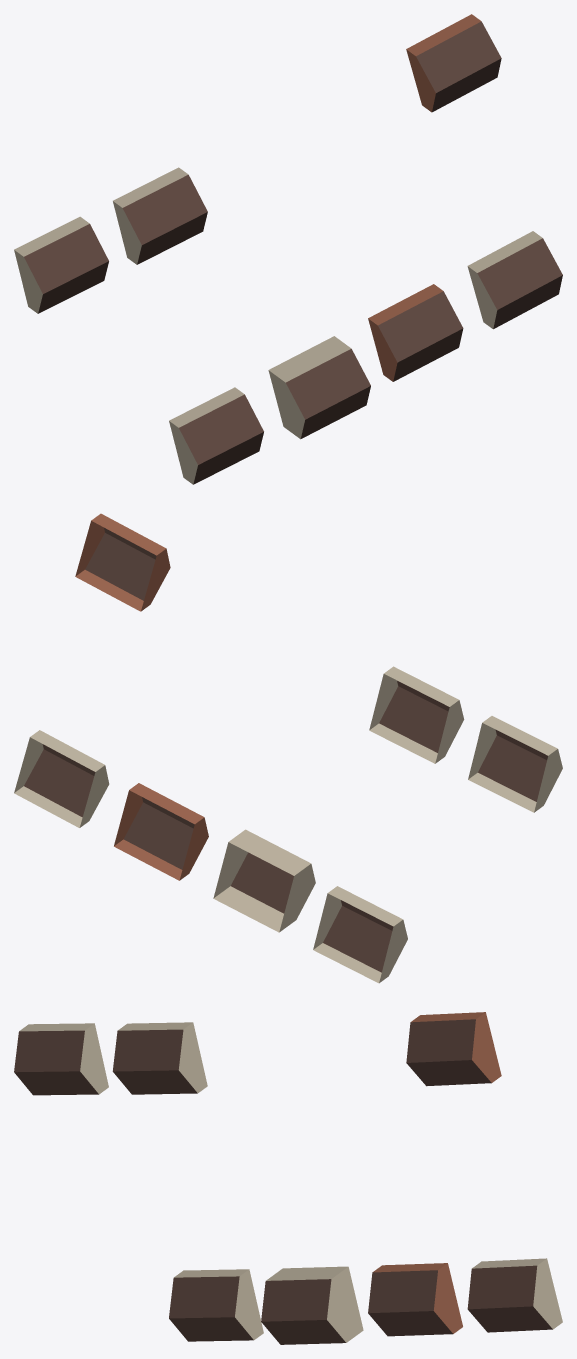
File: island_bldg_23_02.obj
3 views of the same model, one above another, from view 1: azimuth 30°, elevation 25°; view 2: azimuth 150°, elevation 25°; view 3: azimuth 330°, elevation 25° (orthographic).
Visible parts, largest first — view 1: island_bldg_23_02; view 2: island_bldg_23_02; view 3: island_bldg_23_02.
Part boxes in pixels (left/top/right/bottom): island_bldg_23_02: left=14, top=14, right=562, bottom=484; island_bldg_23_02: left=14, top=513, right=562, bottom=983; island_bldg_23_02: left=14, top=1012, right=562, bottom=1344.
Bounding box in the file's own units: 126 × 88.22 × 11.9.
